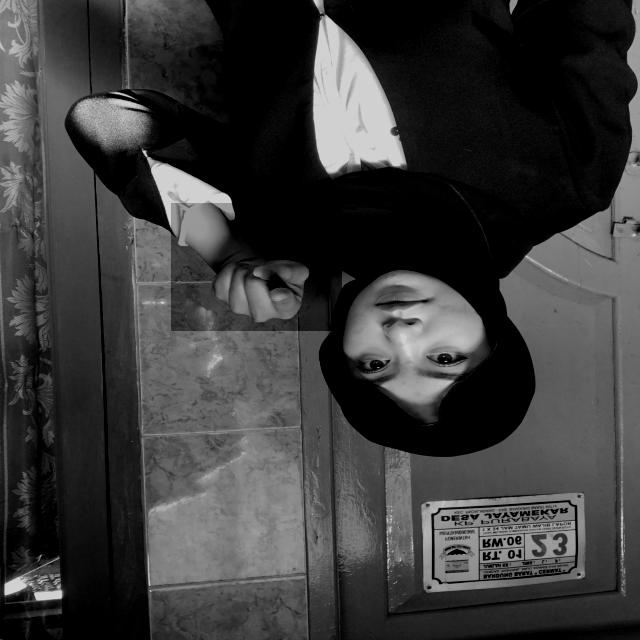kamu: (171, 203, 342, 331)
